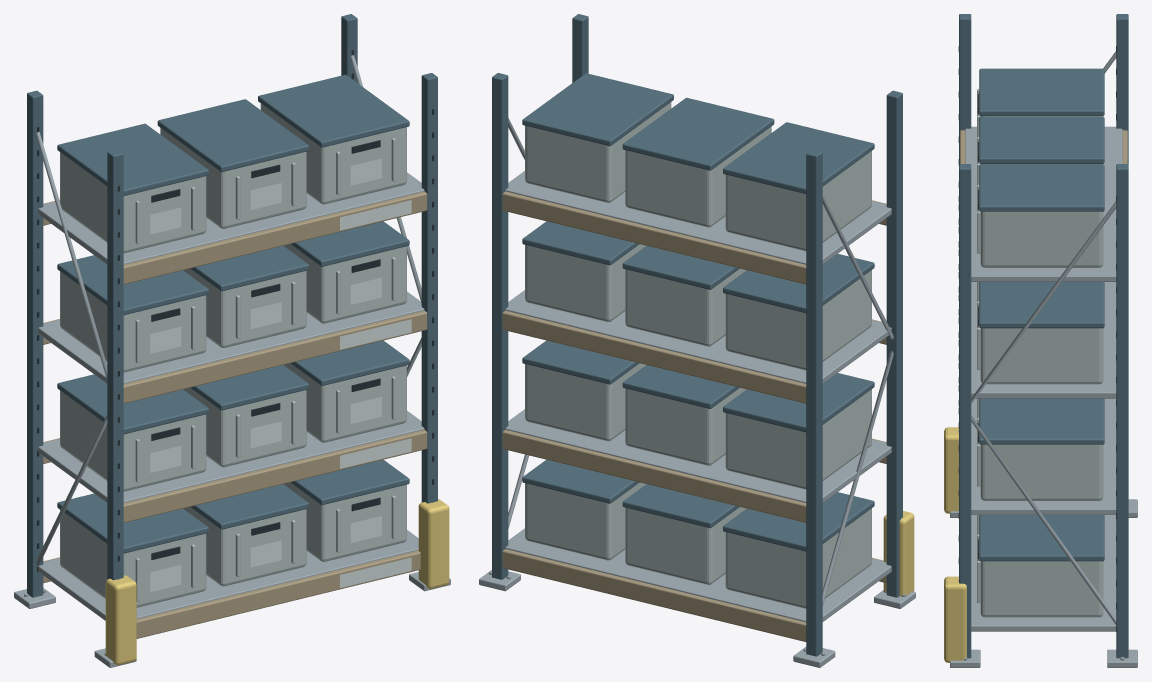
The model's file is OD_WarehouseRack_1.fbx.
The picture shows the model from 3 angles, left to right: view 1: azimuth 30°, elevation 25°; view 2: azimuth 150°, elevation 25°; view 3: azimuth 270°, elevation 25°; orthographic projection. The views are drawn at different scales.
Parts seen in each view (by area): view 1: OD_WarehouseRack_1; view 2: OD_WarehouseRack_1; view 3: OD_WarehouseRack_1.
Part boxes in pixels (left/top/right/bottom): OD_WarehouseRack_1: left=14, top=14, right=450, bottom=667; OD_WarehouseRack_1: left=479, top=14, right=915, bottom=667; OD_WarehouseRack_1: left=944, top=14, right=1137, bottom=667.
Bounding box in the file's own units: 201 × 285 × 101.
